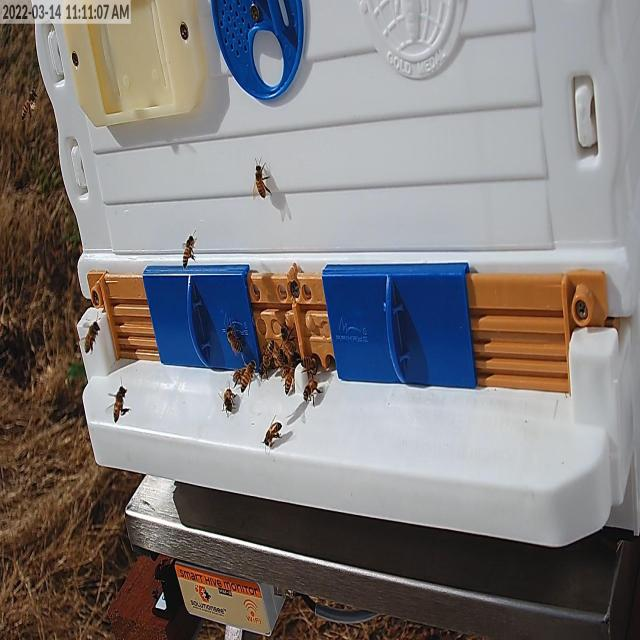honeybee: (259, 338, 274, 380), (254, 162, 268, 206), (82, 318, 100, 352), (111, 385, 126, 425), (227, 324, 244, 357), (181, 232, 195, 268), (264, 422, 284, 446), (282, 364, 297, 396), (304, 377, 322, 403), (242, 359, 257, 390), (281, 325, 297, 352), (223, 384, 236, 414), (302, 354, 318, 373), (231, 368, 254, 381)
